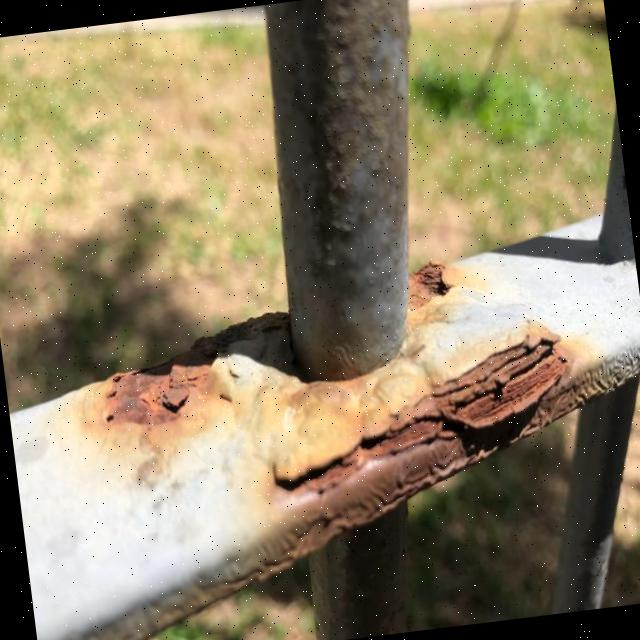Corrosion: (0, 243, 605, 640)
